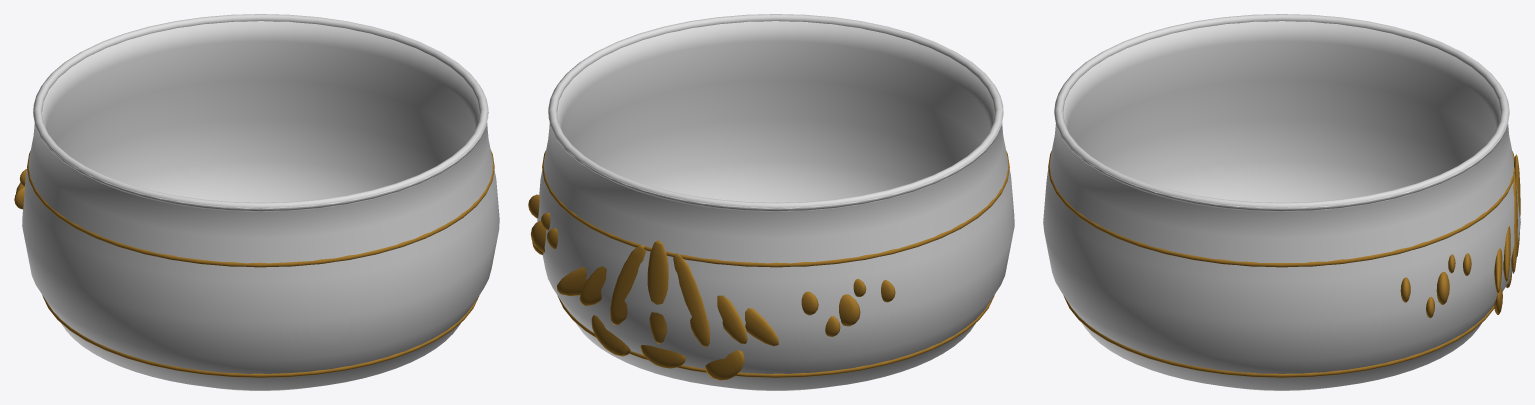
The model's file is chuong_v2.glb.
3 renders of one model, left to right at view 1: azimuth 30°, elevation 25°; view 2: azimuth 150°, elevation 25°; view 3: azimuth 270°, elevation 25°, orthographic.
Visible parts, largest first — view 1: ChuongV2; view 2: ChuongV2; view 3: ChuongV2.
Part boxes in pixels (left/top/right/bottom): ChuongV2: left=14, top=14, right=499, bottom=390; ChuongV2: left=528, top=14, right=1014, bottom=390; ChuongV2: left=1043, top=14, right=1520, bottom=390.
Size of the model in its own units: 0.43 by 0.2225 by 0.43.
